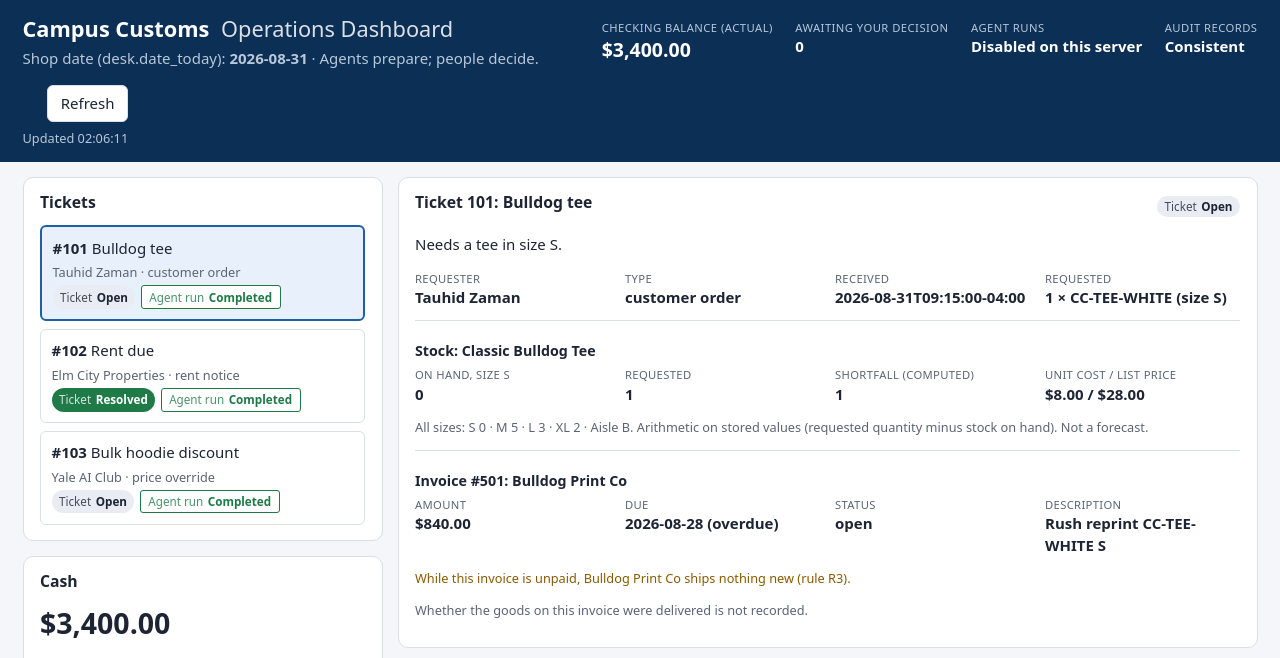
Test: agent runs › does not offer the resolution step after a failed run or on a resolved ticket
Click the button with aria-label "Ticket 102: Rent due, resolved". click: (202, 376)
box: top-left (40, 329), bottom-right (365, 423)
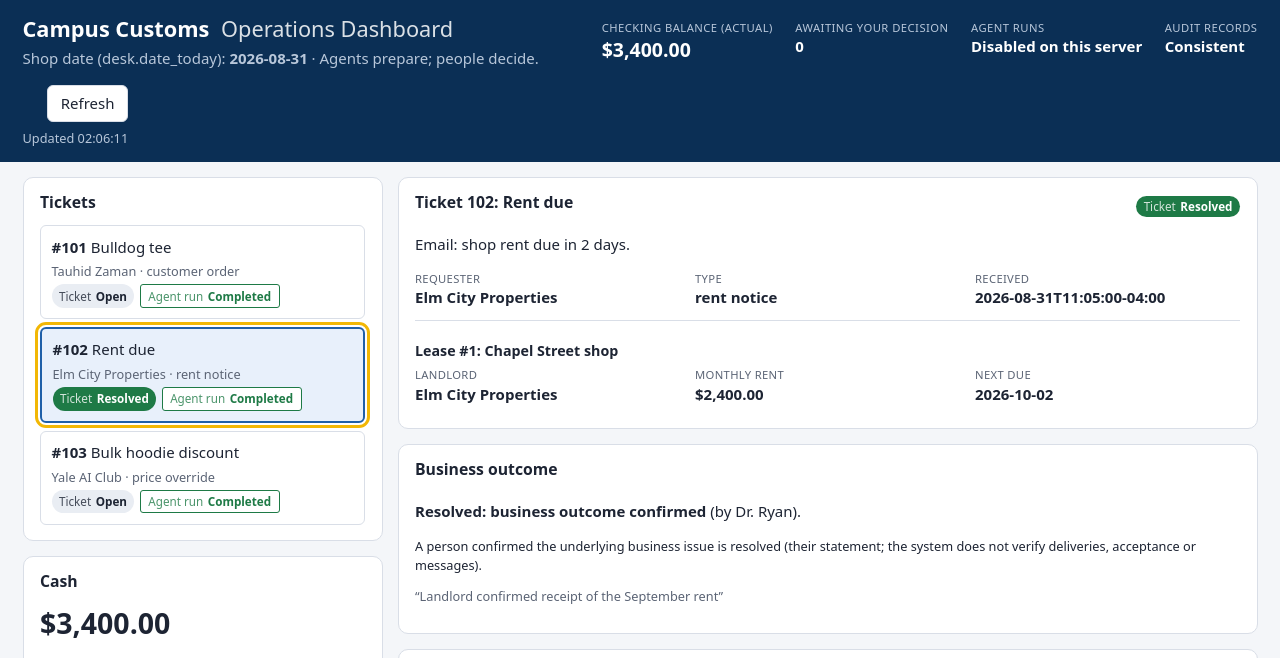
Expected: the text "Resolved: business outcome confirmed" is shown, top-left (415, 501), bottom-right (706, 521)
